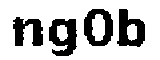0: (81, 6, 114, 48)
b: (116, 7, 147, 53)
g: (50, 14, 80, 59)
n: (9, 14, 47, 50)
